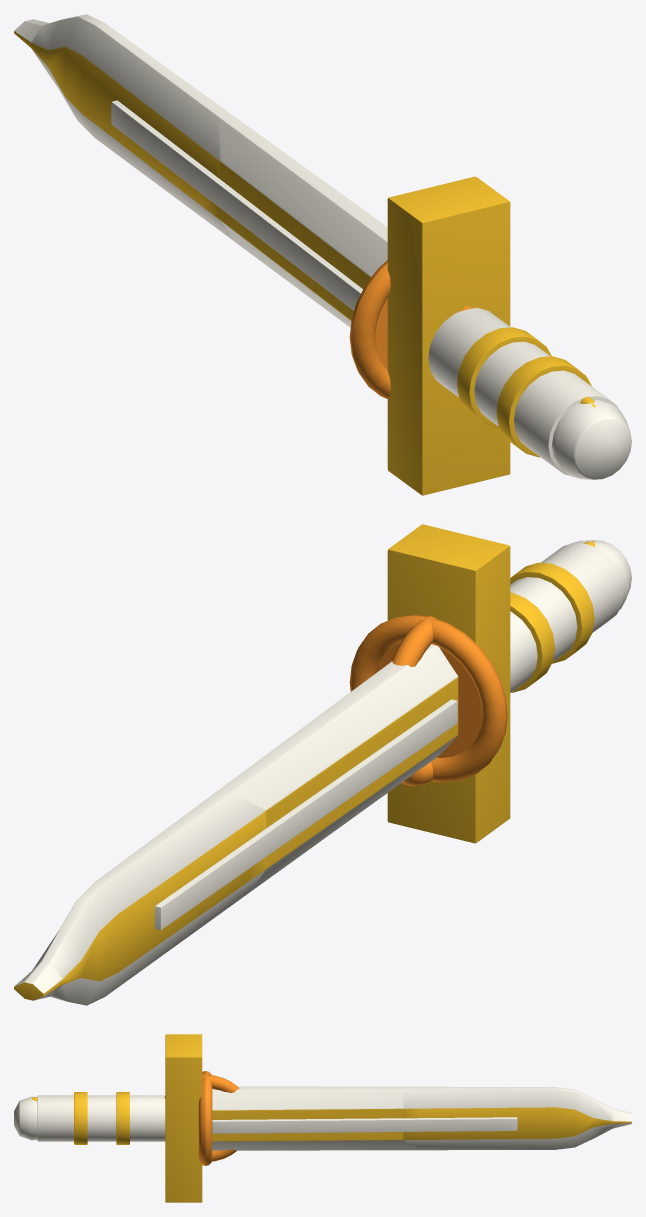
The model's file is Sword_MeridianBlade.glb.
The picture shows the model from 3 angles, top to bottom: view 1: azimuth 30°, elevation 25°; view 2: azimuth 150°, elevation 25°; view 3: azimuth 270°, elevation 25°; orthographic projection. The views are drawn at different scales.
Parts seen in each view (by area): view 1: Sword_MeridianBlade; view 2: Sword_MeridianBlade; view 3: Sword_MeridianBlade.
Part boxes in pixels (box(x1,y1,x2,y2)): Sword_MeridianBlade: box(14, 14, 631, 495); Sword_MeridianBlade: box(14, 524, 631, 1005); Sword_MeridianBlade: box(14, 1034, 631, 1202).
Bounding box in the file's own units: 0.154 × 0.26 × 1.
1 material, 1 textured.
